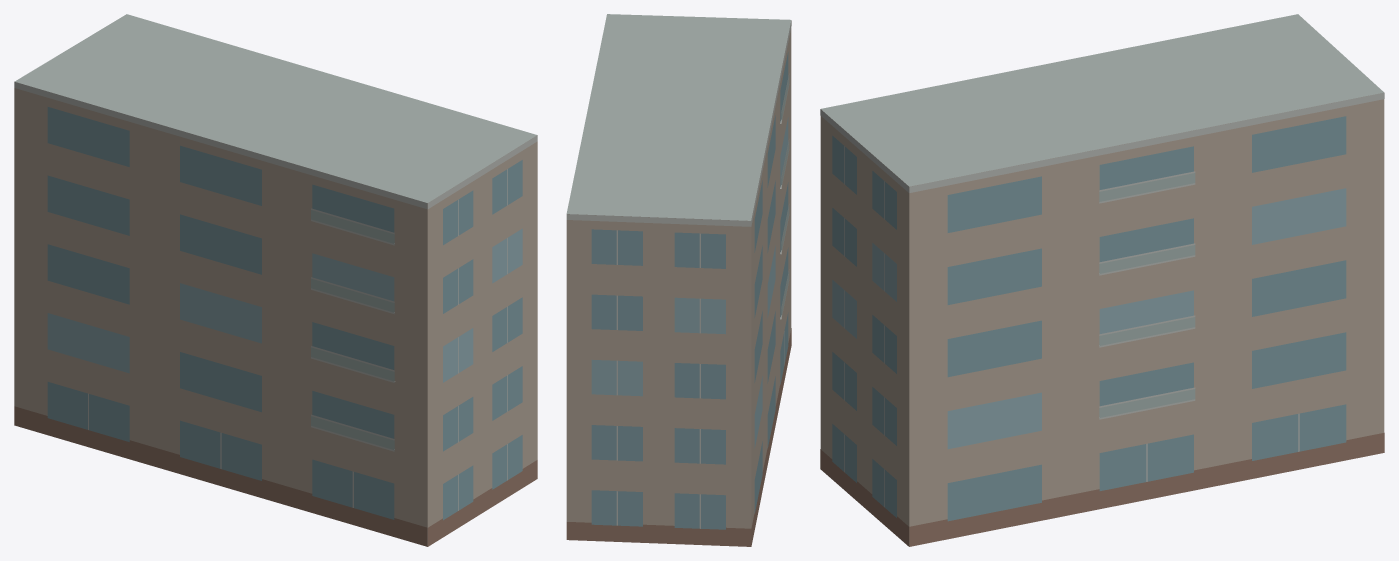
File: survey-upis-32894551.glb
3 renders of one model, left to right at view 1: azimuth 30°, elevation 25°; view 2: azimuth 150°, elevation 25°; view 3: azimuth 270°, elevation 25°, orthographic. The views are drawn at different scales.
Visible parts, largest first — view 1: survey-upis-32894551.tmp; view 2: survey-upis-32894551.tmp; view 3: survey-upis-32894551.tmp.
Boxes of the visible parts, left/top/right/bottom form: survey-upis-32894551.tmp: left=14, top=14, right=537, bottom=546; survey-upis-32894551.tmp: left=566, top=14, right=791, bottom=546; survey-upis-32894551.tmp: left=820, top=14, right=1384, bottom=546.
Bounding box in the file's own units: 13.84 × 13.45 × 19.1.
